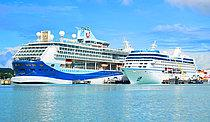Ship: (8, 23, 135, 84), (122, 48, 201, 89)
